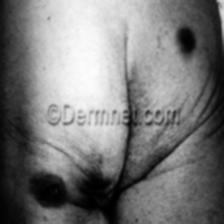Potentially Malignant Skin Tumors: (34, 169, 68, 205), (178, 26, 196, 54)
